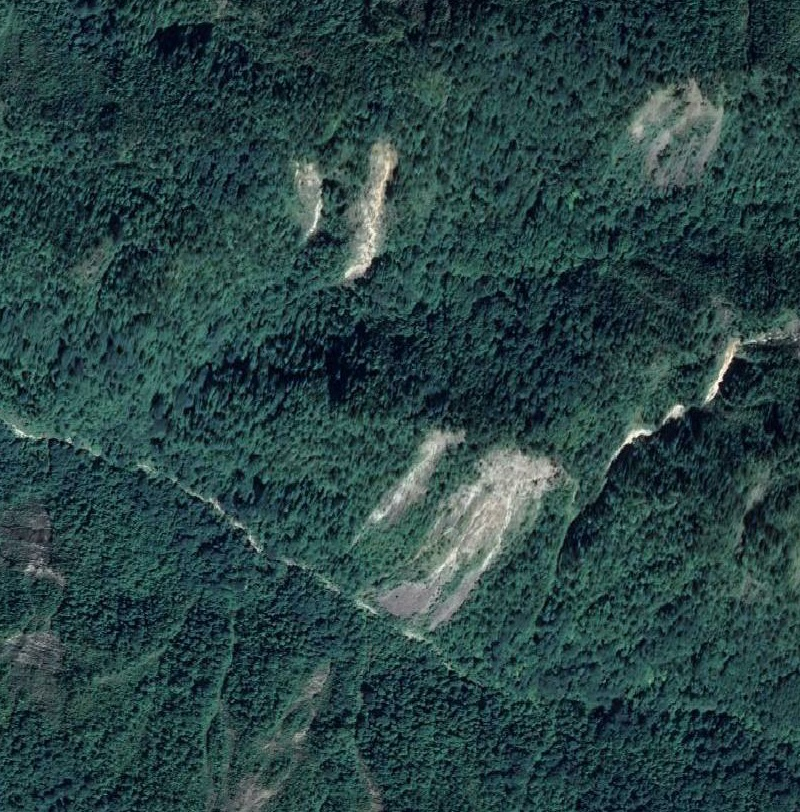slope: (380, 447, 565, 639), (598, 321, 799, 481), (620, 65, 733, 194), (352, 421, 473, 537), (343, 137, 398, 280), (287, 155, 327, 249)
